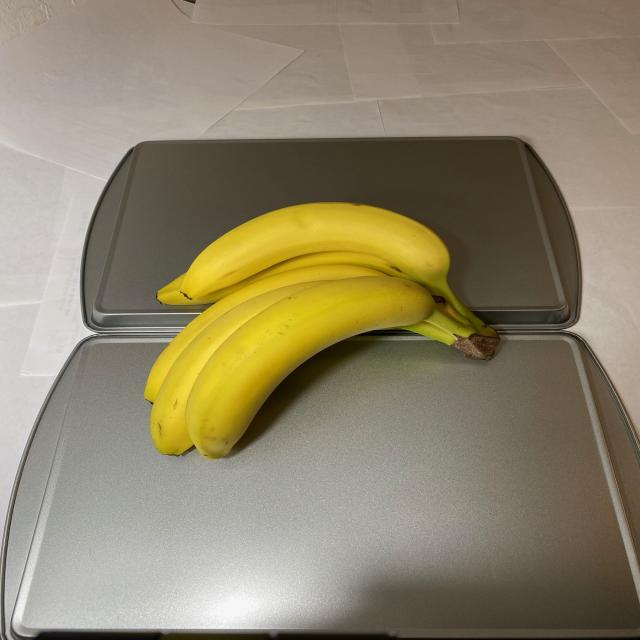banana: (145, 202, 506, 462)
